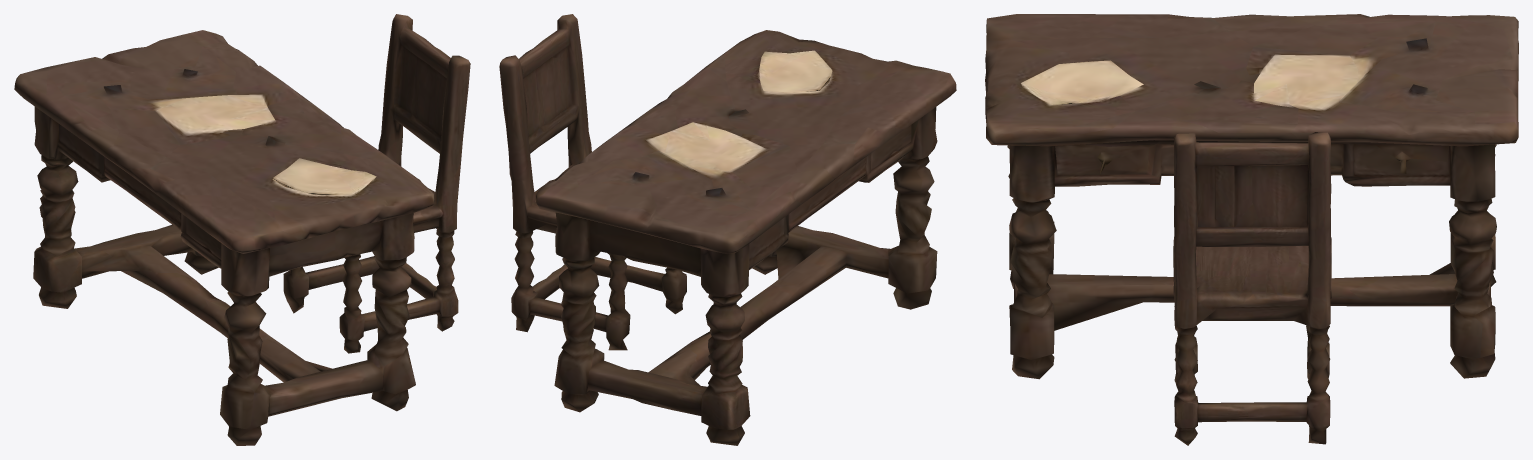
The model's file is writing_desk_chair.glb.
3 views of the same model, side by side, from view 1: azimuth 30°, elevation 25°; view 2: azimuth 150°, elevation 25°; view 3: azimuth 270°, elevation 25° (orthographic). The views are drawn at different scales.
Visible parts, largest first — view 1: tripo_node_e26ad0a6-379d-4677-8bac-332c25242ef1; view 2: tripo_node_e26ad0a6-379d-4677-8bac-332c25242ef1; view 3: tripo_node_e26ad0a6-379d-4677-8bac-332c25242ef1.
Part boxes in pixels (left/top/right/bottom): tripo_node_e26ad0a6-379d-4677-8bac-332c25242ef1: left=14, top=14, right=470, bottom=445; tripo_node_e26ad0a6-379d-4677-8bac-332c25242ef1: left=499, top=14, right=956, bottom=445; tripo_node_e26ad0a6-379d-4677-8bac-332c25242ef1: left=985, top=14, right=1518, bottom=445.
Bounding box in the file's own units: 0.7914 × 0.6407 × 0.981.
1 material, 1 textured.
